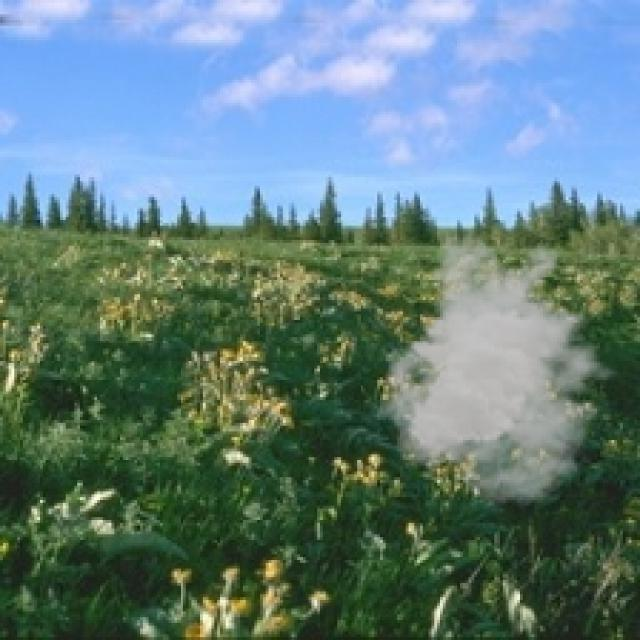smoke: (374, 231, 629, 506)
